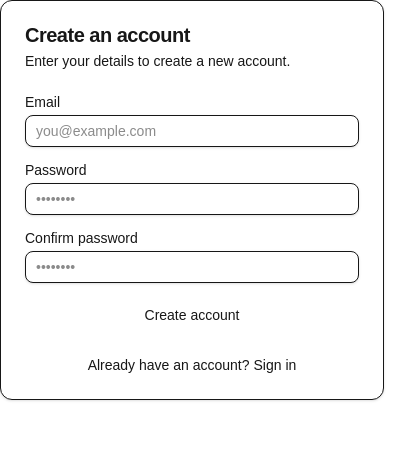
Test: SignUpFormView › validation › shows password too short error when password is fewer than 8 characters
The width and height of the screenshot is (401, 462).
Type "user@example.com" into the field with placeholder "you@example.com". click: [192, 131]
box: [25,115,359,147]
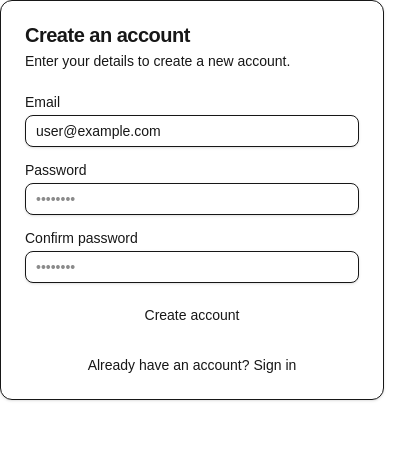
Type "short" into the password field labelled "Password". click: [192, 199]
box: [25,183,359,215]
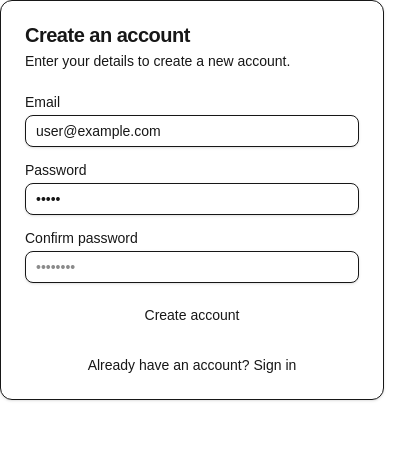
Submit the form with placeholder "you@example.com", box [25,95,359,331]
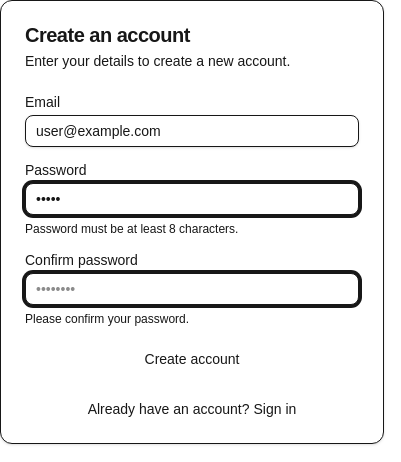
Check: the text "Password must be at least 8 characters." is shown, box [25,222,238,236]
